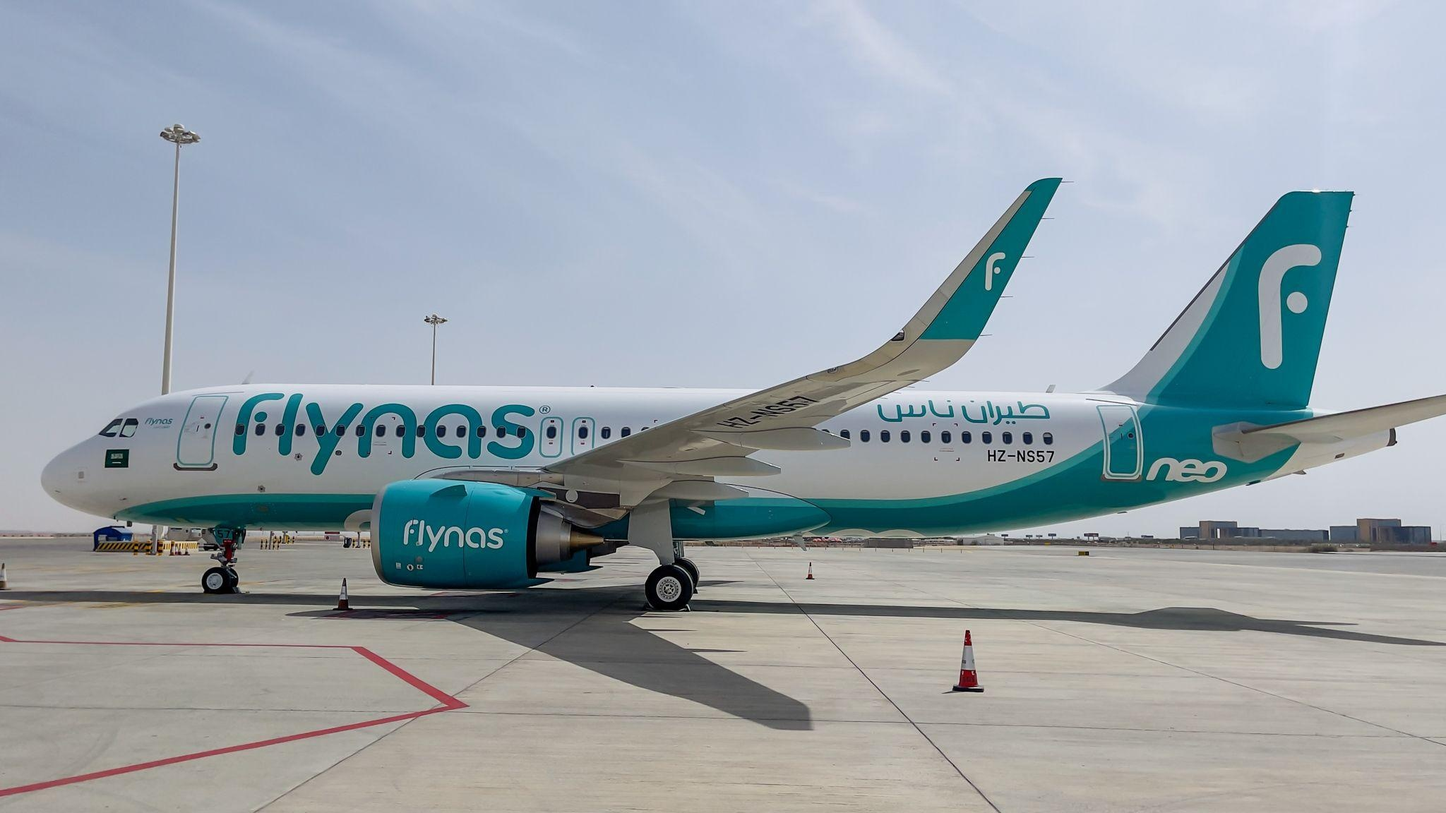aircraft: (22, 180, 1441, 610)
